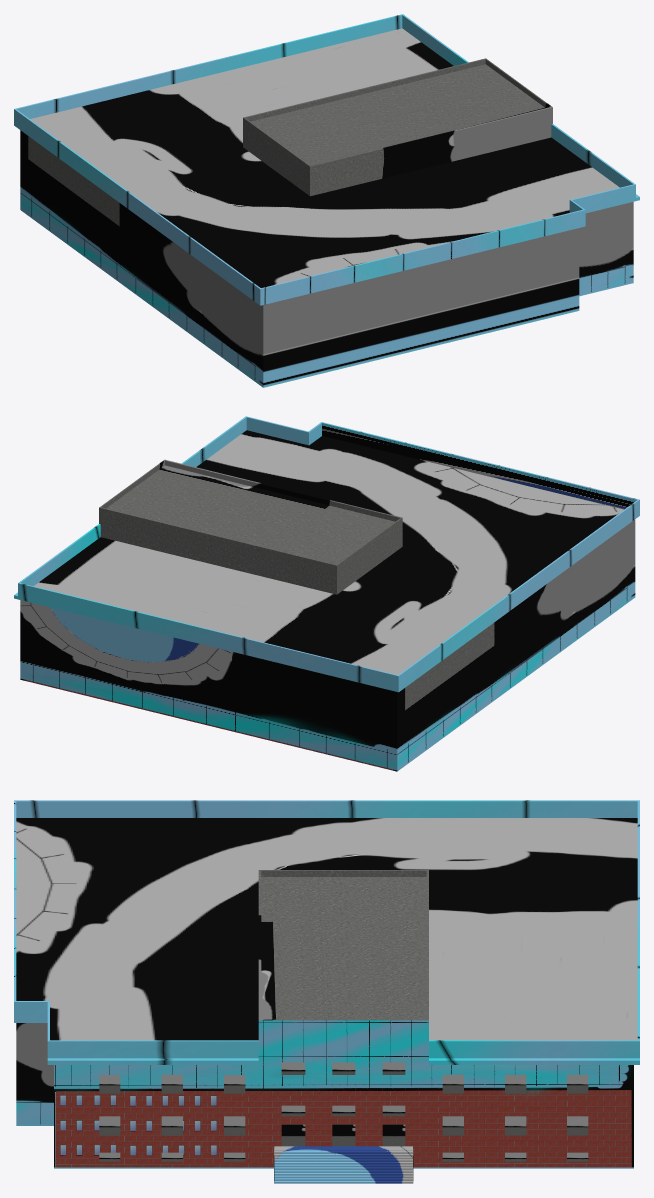
File: TownHall.FBX
The picture shows the model from 3 angles, top to bottom: view 1: azimuth 30°, elevation 25°; view 2: azimuth 150°, elevation 25°; view 3: azimuth 270°, elevation 25°; orthographic projection. The views are drawn at different scales.
Visible parts, largest first — view 1: TownHall1; view 2: TownHall1; view 3: TownHall1.
Part boxes in pixels (bbox=[...]): TownHall1: bbox=[14, 14, 639, 387]; TownHall1: bbox=[14, 416, 639, 771]; TownHall1: bbox=[14, 800, 639, 1183].
Bounding box in the file's own units: 208 × 55.71 × 213.
